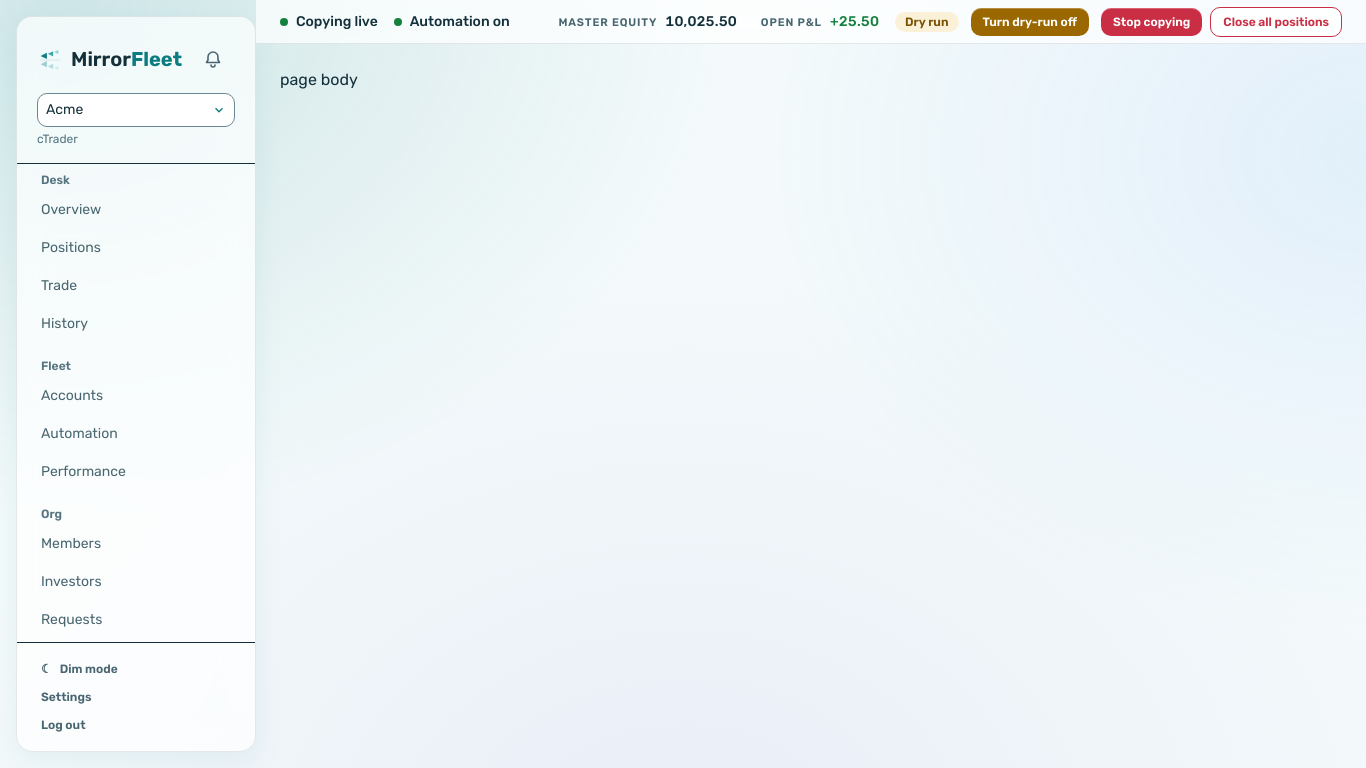
disabling dry-run from the strip does not PUT if the dialog is cancelled
Click the button with test id "dry-run-toggle" at x=1030, y=22, box x1=970 y1=8 x2=1089 y2=36
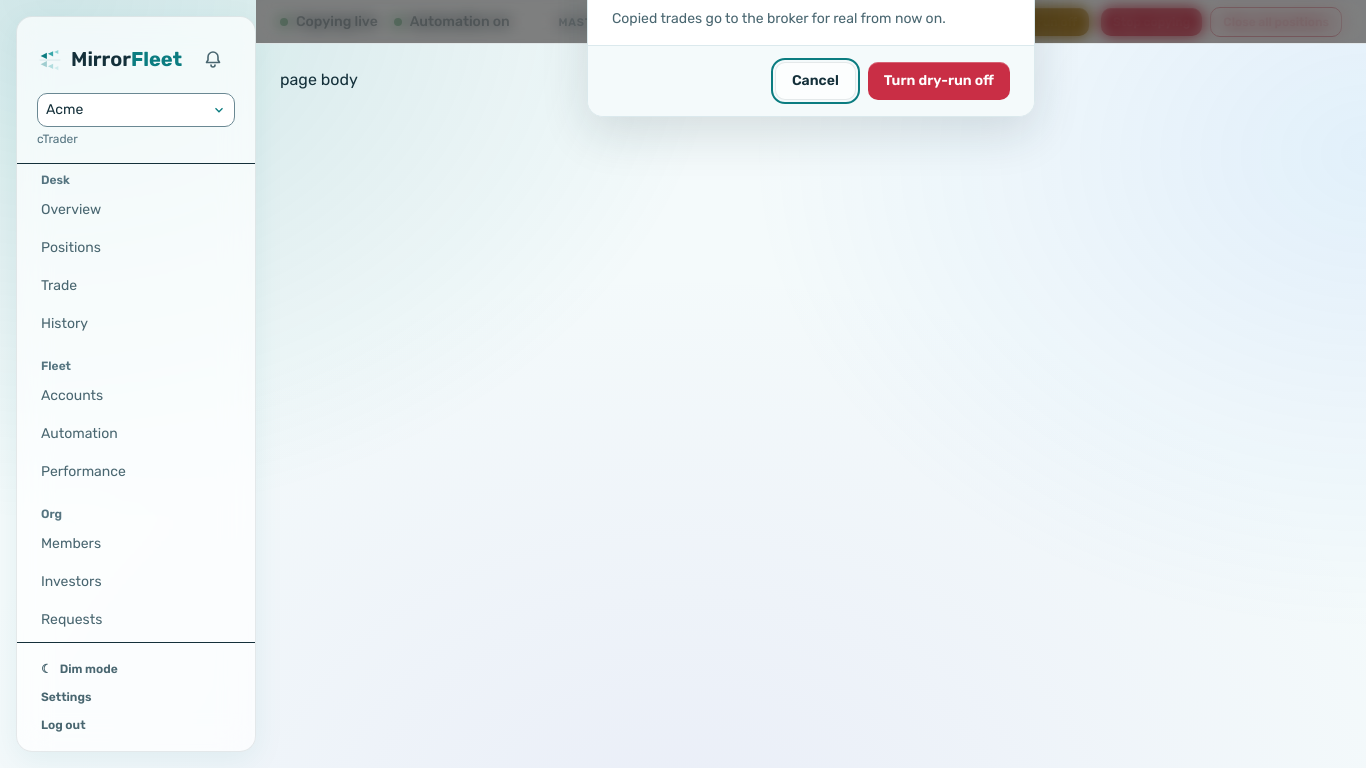
Click the button "Cancel" at x=815, y=80, box x1=775 y1=62 x2=856 y2=100
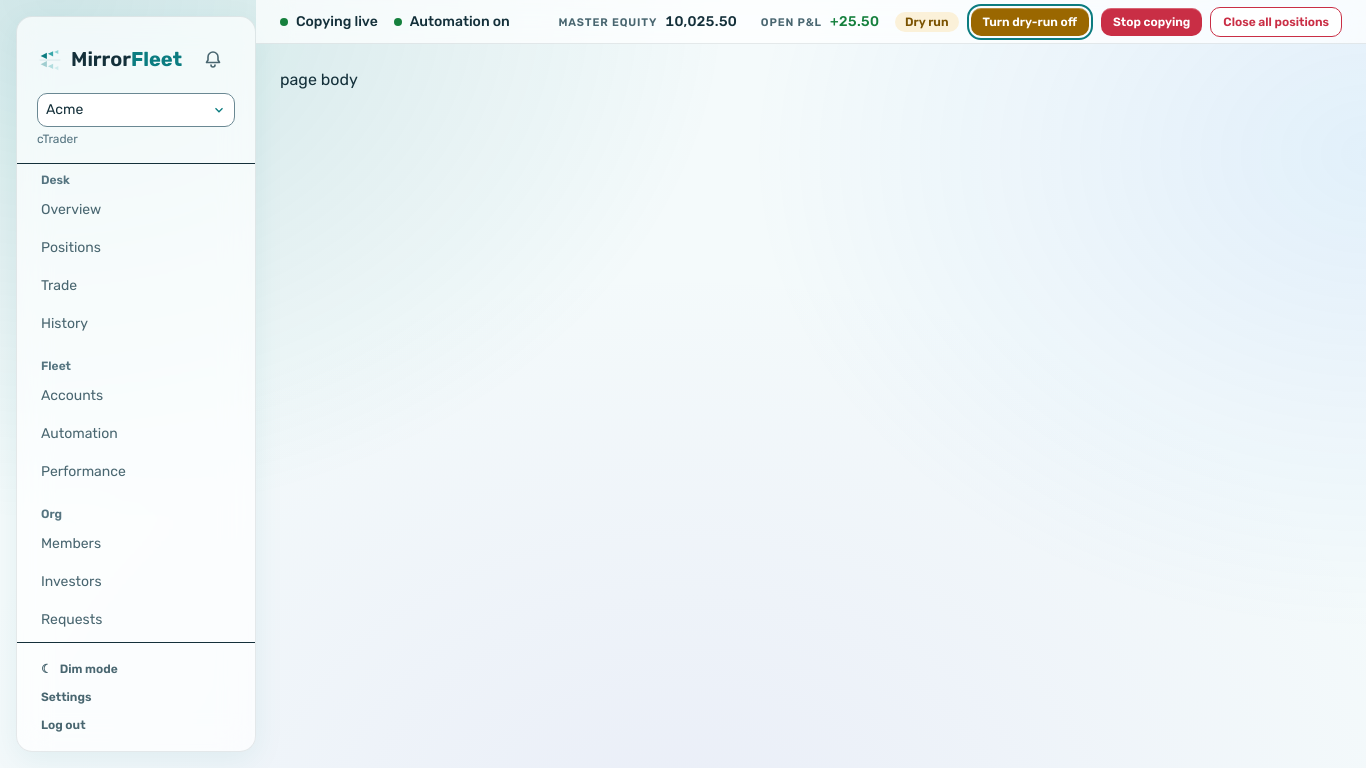
Result: the dialog is gone
